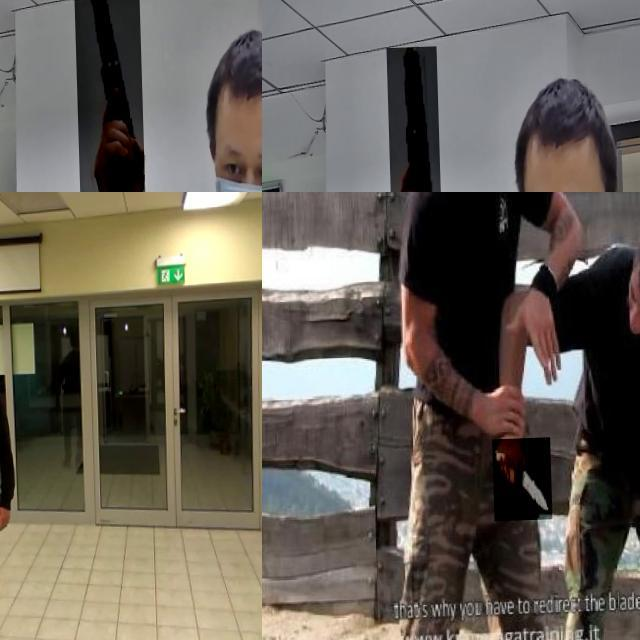-: (490, 440, 550, 523)
gun-knife-thesis - v11 Yolov5 augmented: (73, 0, 142, 192), (385, 48, 440, 192), (0, 460, 19, 493)
